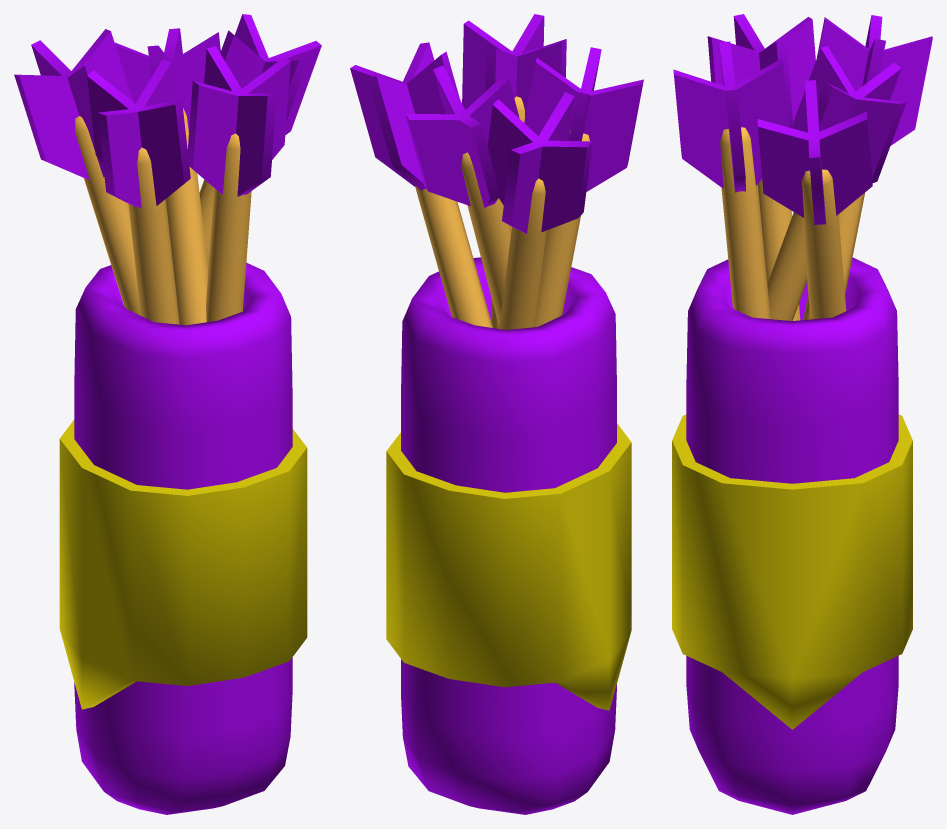
Rendered from colchan (2).fbx.
3 views of the same model, side by side, from view 1: azimuth 30°, elevation 25°; view 2: azimuth 150°, elevation 25°; view 3: azimuth 270°, elevation 25° (orthographic).
Visible parts, largest first — view 1: colchan; view 2: colchan; view 3: colchan.
Part boxes in pixels (x1,y1,x2,y2): colchan: (14, 14, 321, 814); colchan: (350, 14, 643, 814); colchan: (672, 14, 932, 814).
Bounding box in the file's own units: 2.9 × 7.7 × 2.43.
